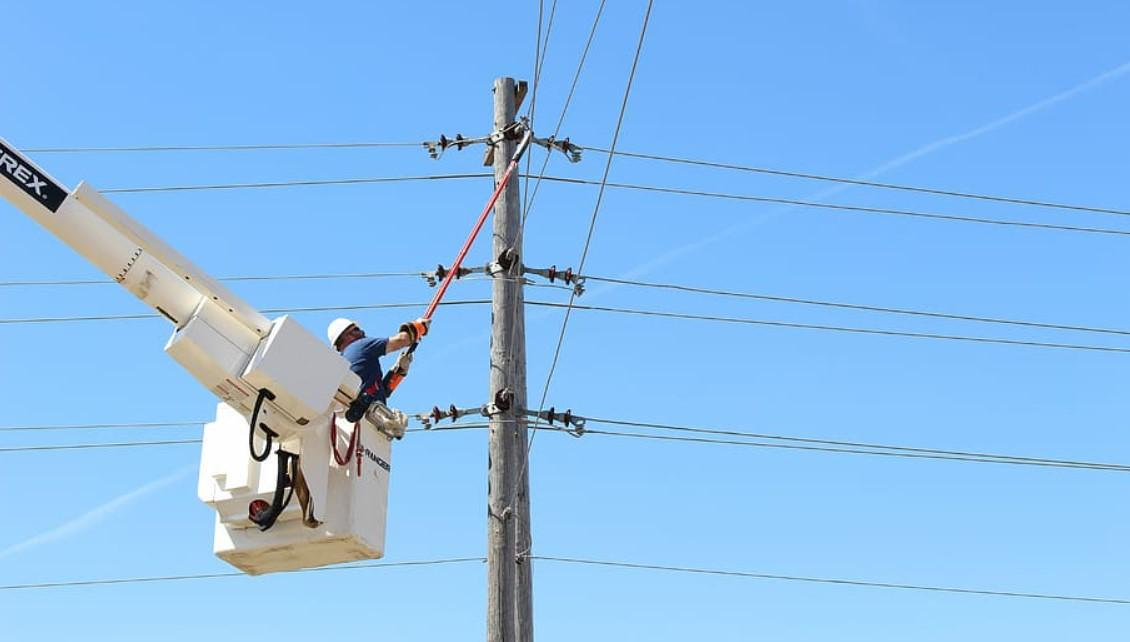Vara_Manobra: (387, 128, 533, 386)
